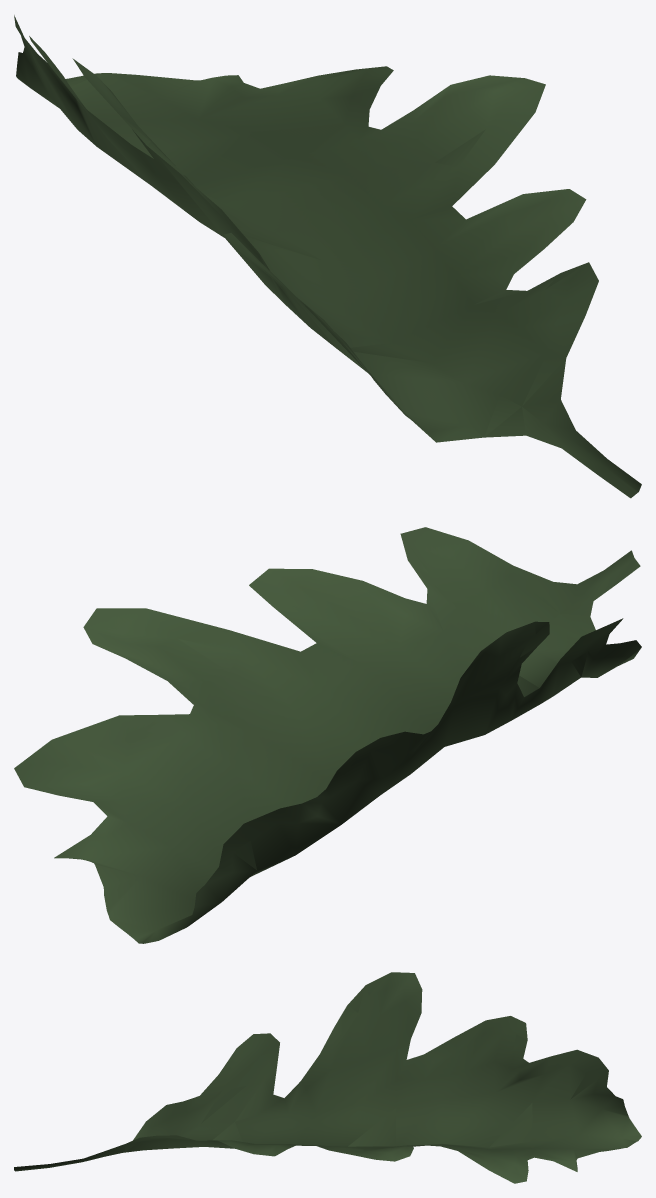
File: trees-leaves-oak-leaf_v2.glb
3 views of the same model, one above another, from view 1: azimuth 30°, elevation 25°; view 2: azimuth 150°, elevation 25°; view 3: azimuth 270°, elevation 25° (orthographic). The views are drawn at different scales.
Visible parts, largest first — view 1: Oak Leaf_v2; view 2: Oak Leaf_v2; view 3: Oak Leaf_v2.
Part boxes in pixels (bbox=[...]): Oak Leaf_v2: bbox=[14, 15, 641, 498]; Oak Leaf_v2: bbox=[14, 527, 641, 943]; Oak Leaf_v2: bbox=[14, 972, 641, 1183].
Size of the model in its own units: 0.0571 by 0.0292 by 0.12.
